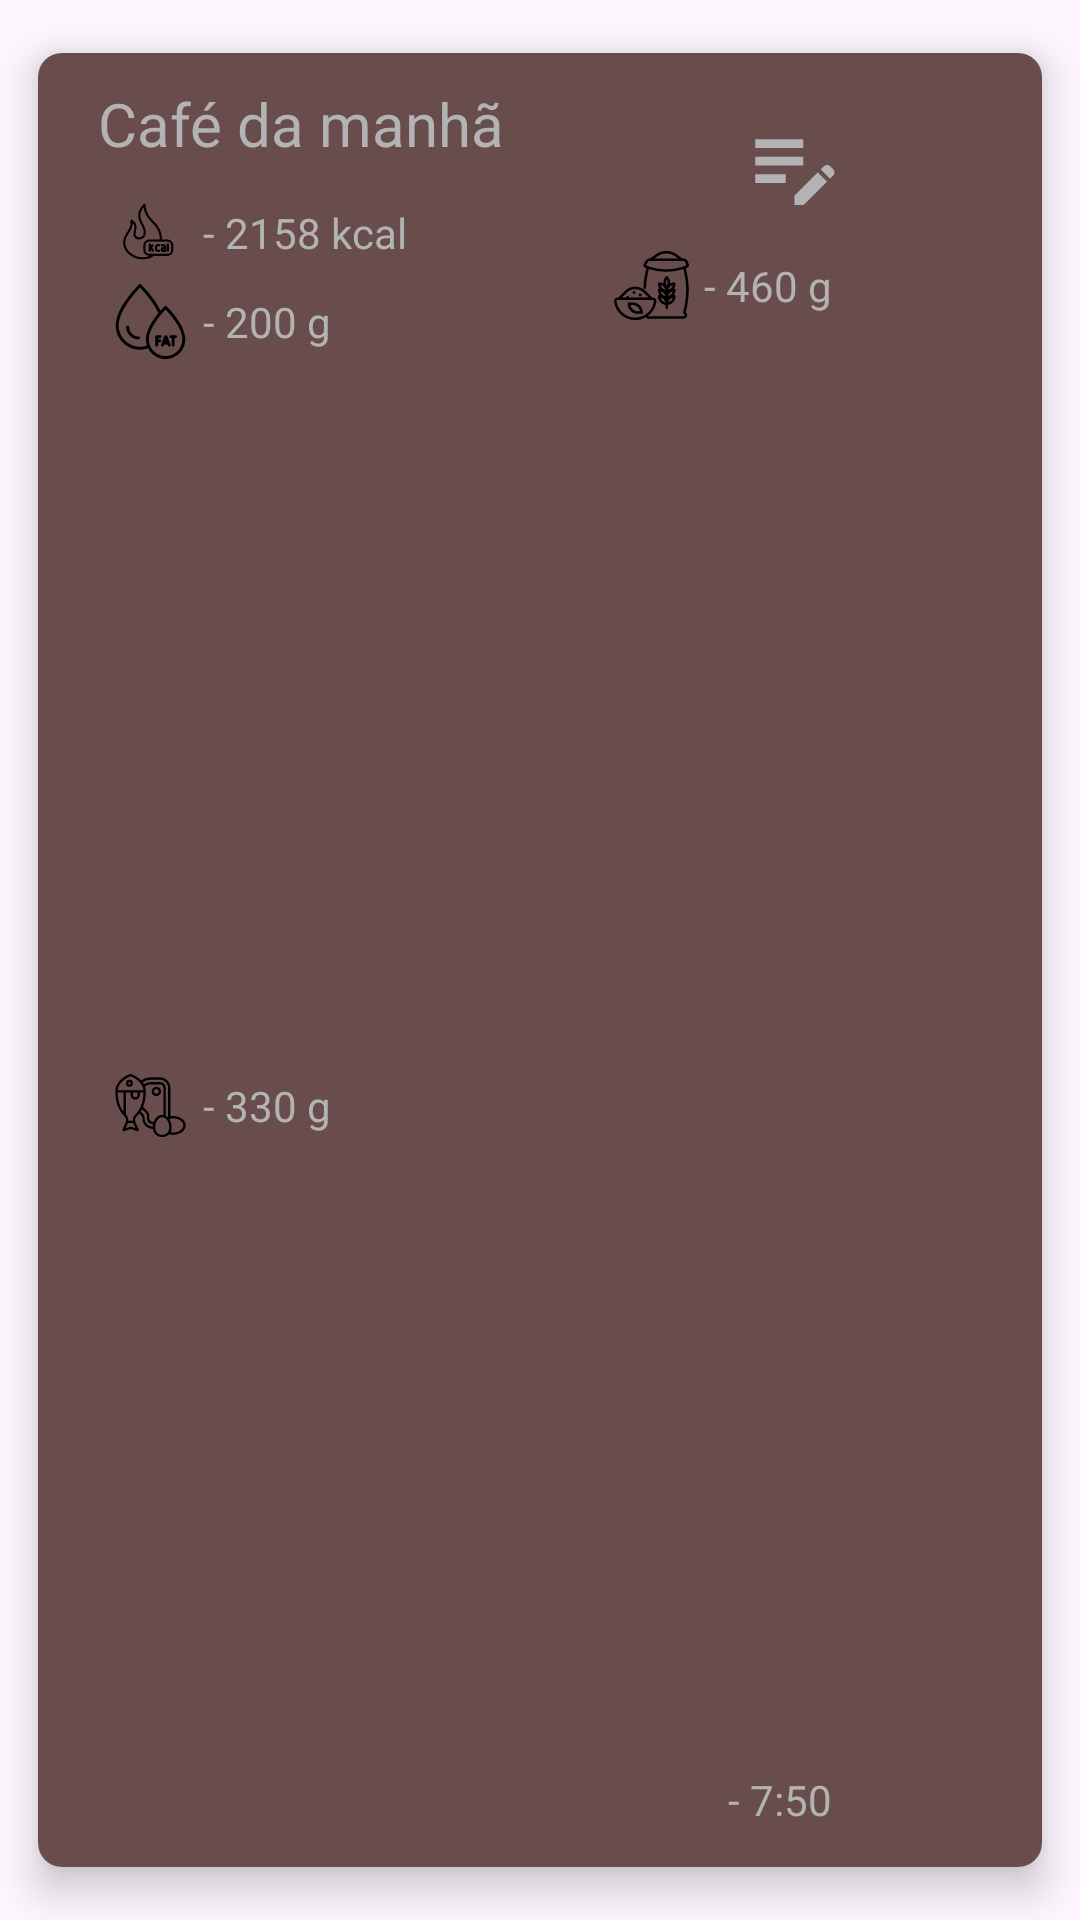

Where icons sit on this 1080×1920 app screen, as (x1, y1, x2, y2):
carb: (614, 251, 689, 320)
edit note: (755, 139, 835, 205)
protein: (115, 1074, 186, 1137)
